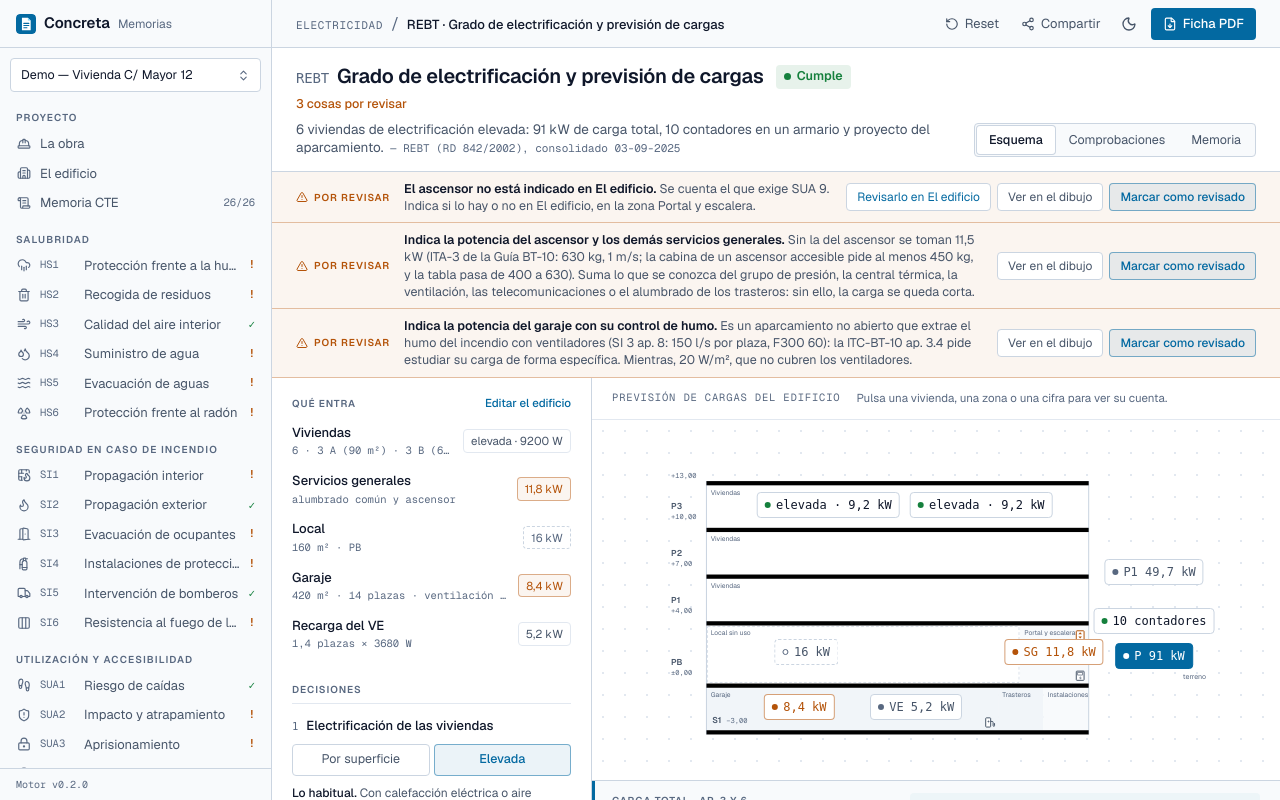
Test: REBT · Grado de electrificación y previsión de cargas (feature-23) › cabecera, qué entra y avisos; por superficie las viviendas pasan a básicas
Expected: the element "Previsión de cargas del edificio" is shown, x1=592 y1=378 x2=1279 y2=799
Expected: the element named "Avisos" shows "Indica la potencia del ascensor y los demás servicios generales.", x1=404 y1=231 x2=785 y2=248
Click the button "Por superficie" at (361, 760), box x1=292 y1=744 x2=430 y2=776
(page scrolled)
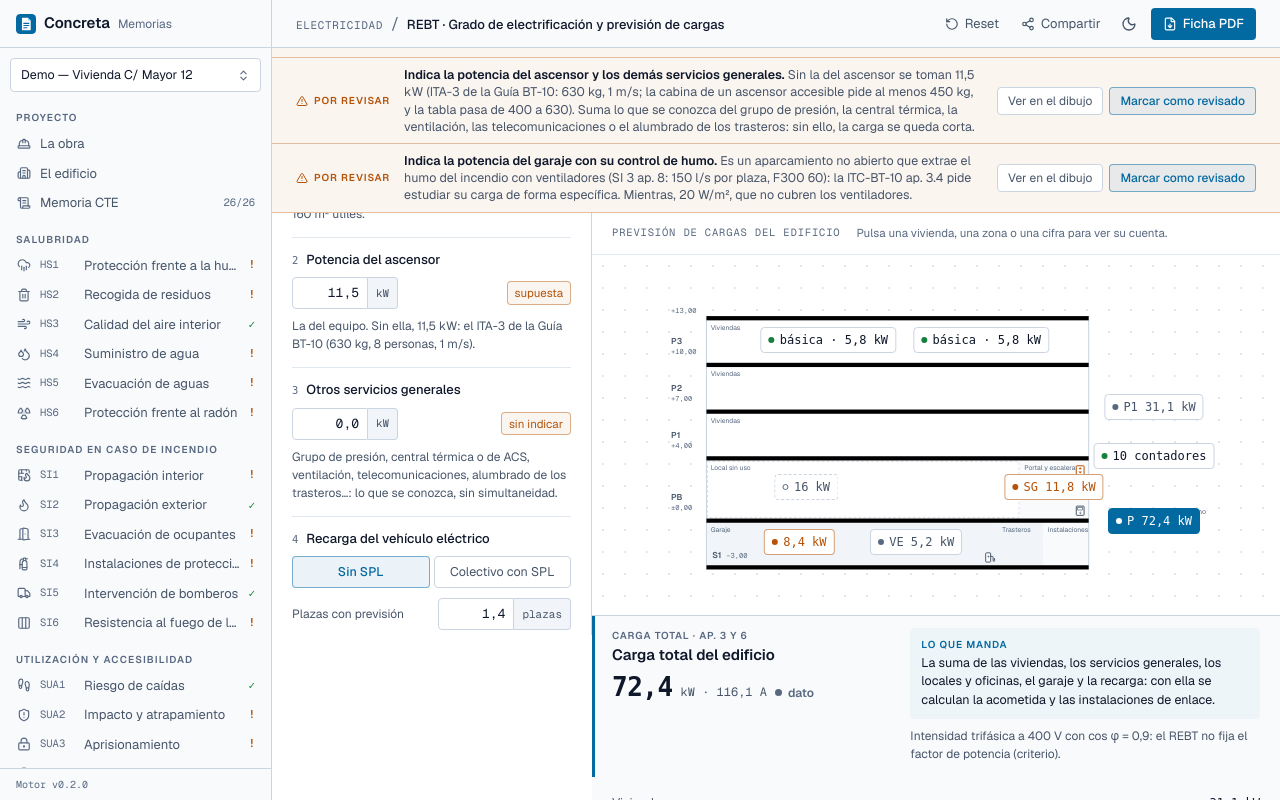
Replace the text in the field named "Otros servicios generales" with "3" at (330, 424), box x1=292 y1=408 x2=368 y2=440
Then press Enter
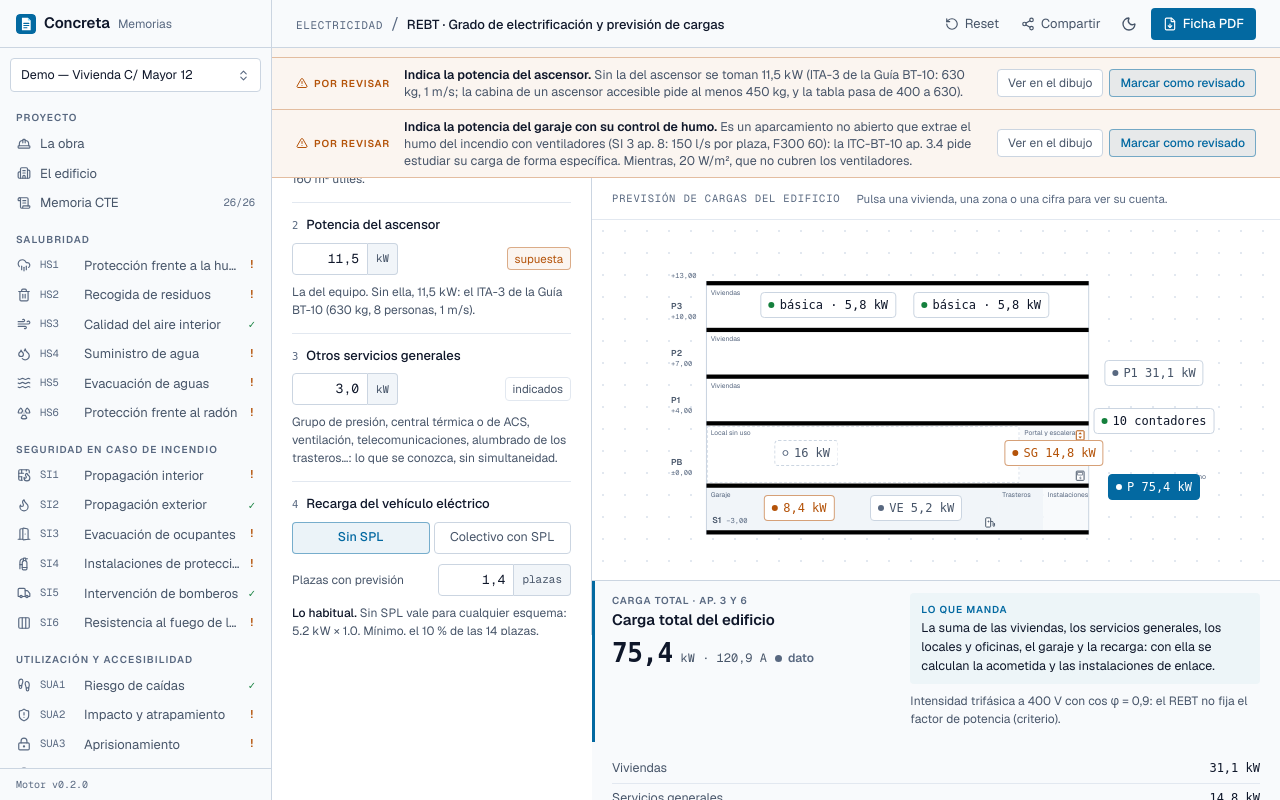
Replace the text in the field named "Potencia del ascensor" with "7,5" at (330, 259), box x1=292 y1=243 x2=368 y2=275
Then press Enter
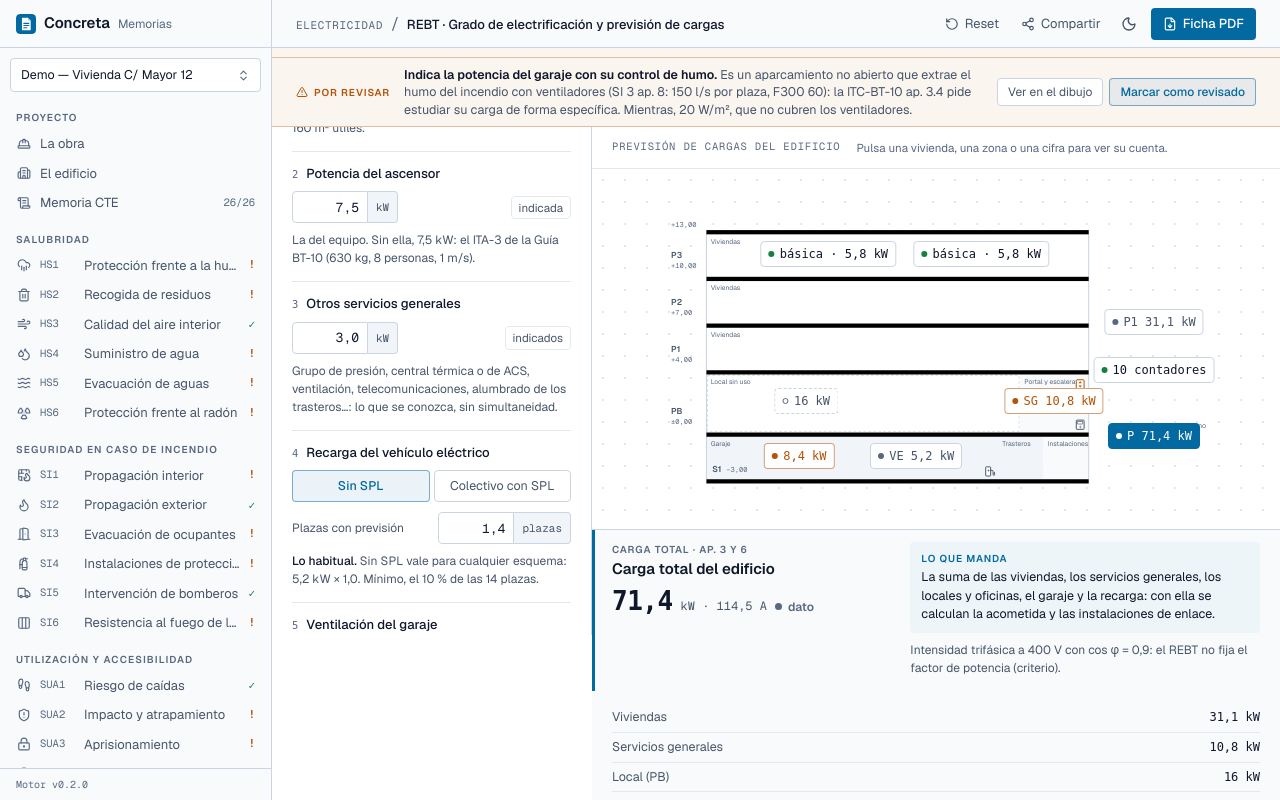
Expected: the element named "Avisos" no longer shows "Indica la potencia del ascensor", x1=272 y1=48 x2=1279 y2=127
